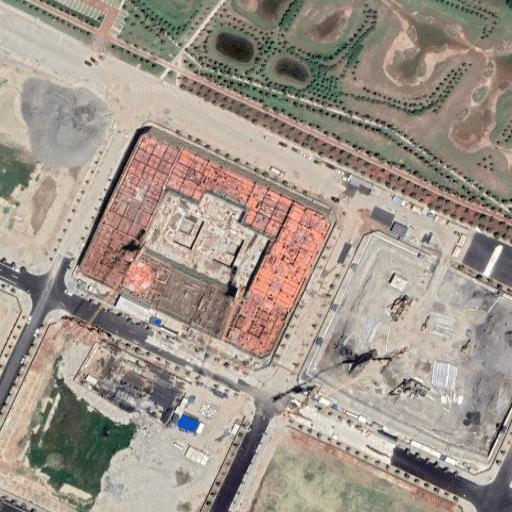building: (87, 127, 342, 354), (128, 247, 248, 333), (185, 446, 209, 465), (177, 415, 200, 434), (390, 221, 408, 237), (390, 276, 406, 290), (196, 423, 205, 434)
